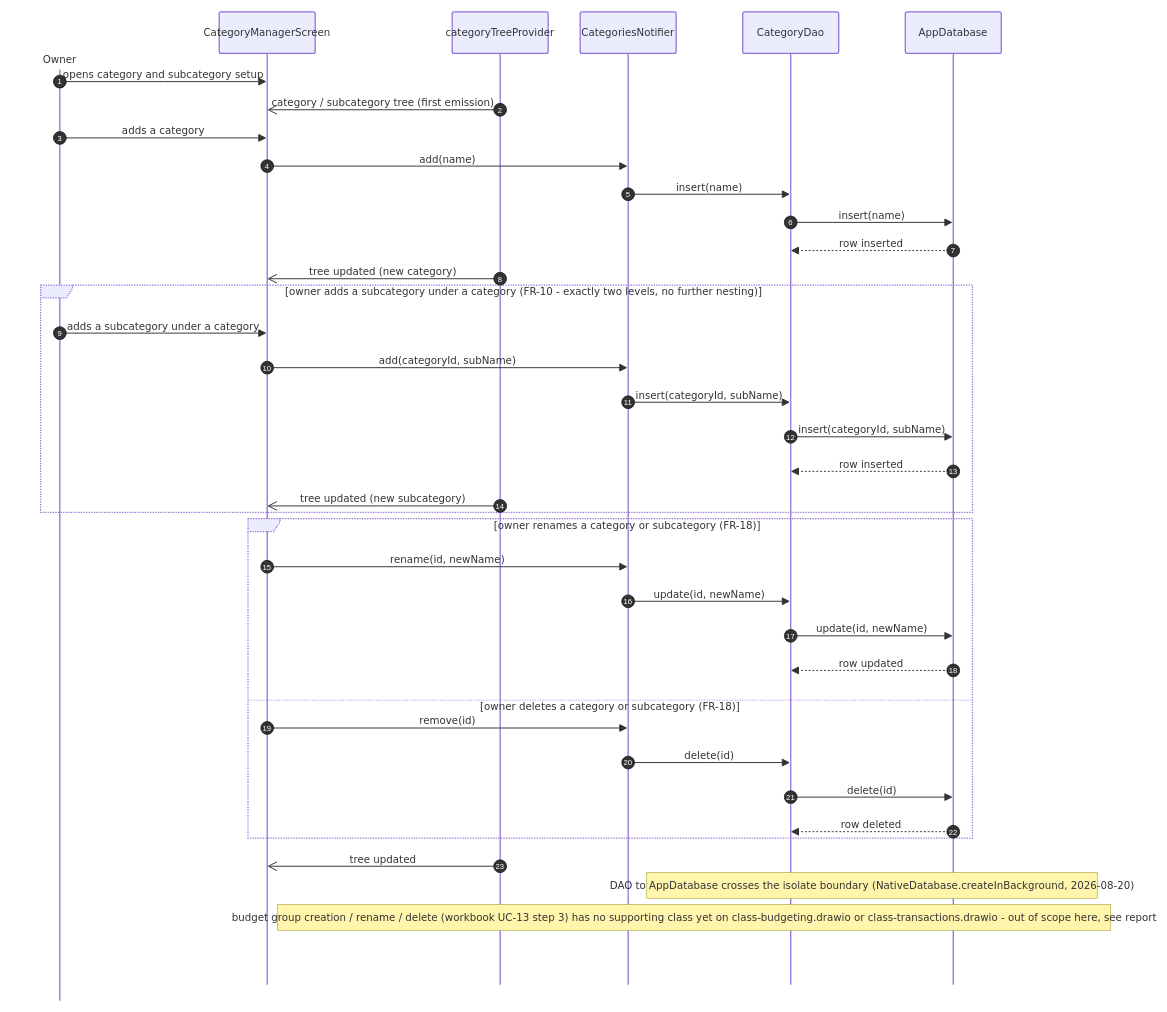
Some shapes in this 1167 by 1012 pixel diagram are drawn without their labels. Each missing label, with the centre of its shape:
"alt" goes at pixel 610 678.
"opt" goes at pixel 506 398.
